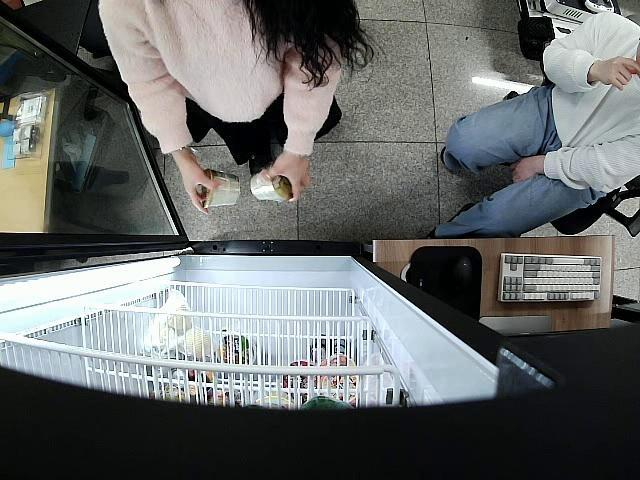04_chapagetti_S: (198, 169, 240, 208), (250, 169, 292, 204)
